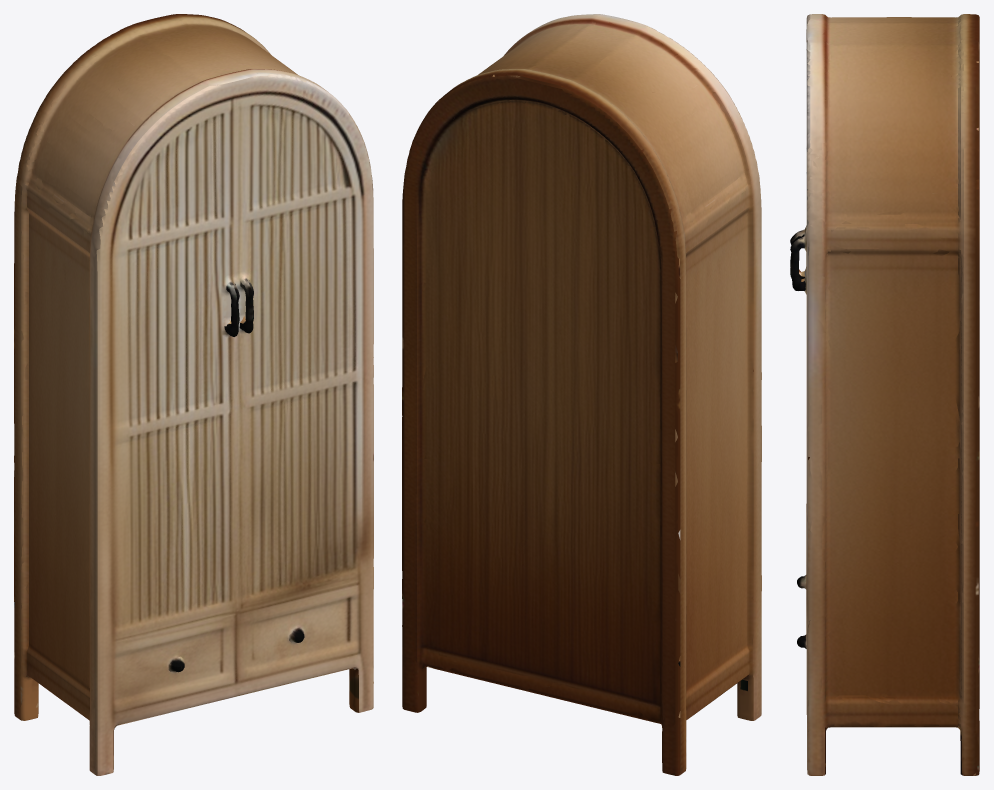
File: wardrobe__wardrobe#5.glb
3 renders of one model, left to right at view 1: azimuth 30°, elevation 25°; view 2: azimuth 150°, elevation 25°; view 3: azimuth 270°, elevation 25°, orthographic.
Visible parts, largest first — view 1: tmpe8ed0nvx.ply; view 2: tmpe8ed0nvx.ply; view 3: tmpe8ed0nvx.ply.
Boxes of the visible parts, x1,y1,x2,y2 form: tmpe8ed0nvx.ply: (14,14,373,775); tmpe8ed0nvx.ply: (402,14,761,775); tmpe8ed0nvx.ply: (790,14,979,775).
Bounding box in the file's own units: 0.8698 × 1.99 × 0.5042.
1 material, 1 textured.
